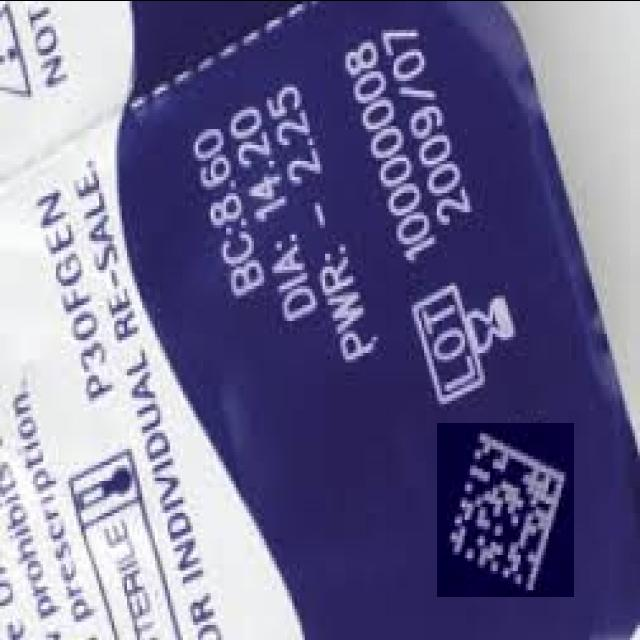DataMatrix: (437, 422, 574, 596)
